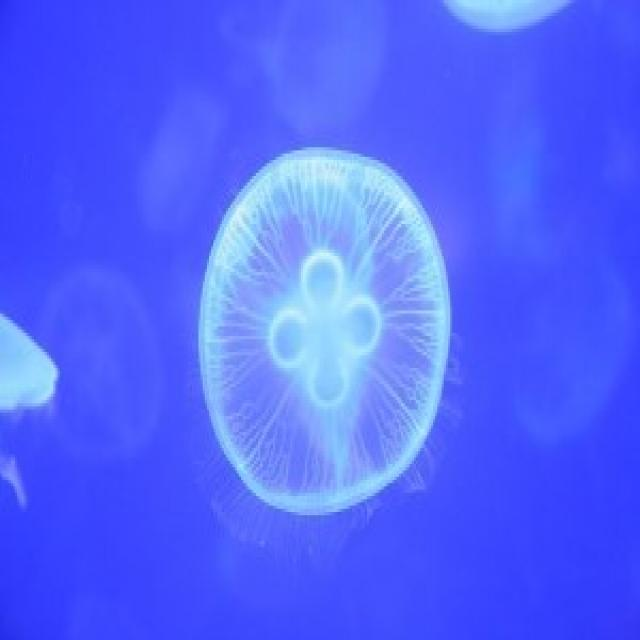Jellyfish: (198, 104, 453, 568)
